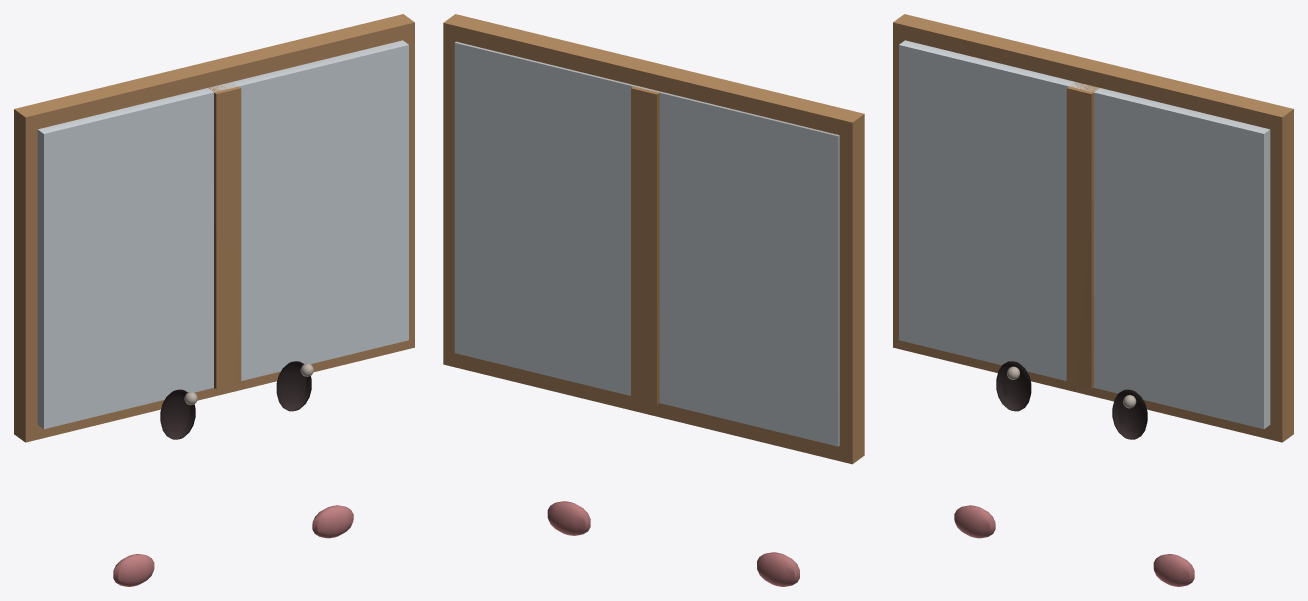
The picture shows the model from 3 angles, left to right: view 1: azimuth 30°, elevation 25°; view 2: azimuth 150°, elevation 25°; view 3: azimuth 330°, elevation 25°; orthographic projection. The views are drawn at different scales.
Parts seen in each view (by area): view 1: pet_p978e9c10; view 2: pet_p978e9c10; view 3: pet_p978e9c10.
Part boxes in pixels (box(x1,y1,x2,y2)): pet_p978e9c10: box(14, 14, 414, 586); pet_p978e9c10: box(443, 14, 864, 586); pet_p978e9c10: box(893, 14, 1293, 586).
Size of the model in its own units: 0.4692 by 0.5548 by 0.0859.
